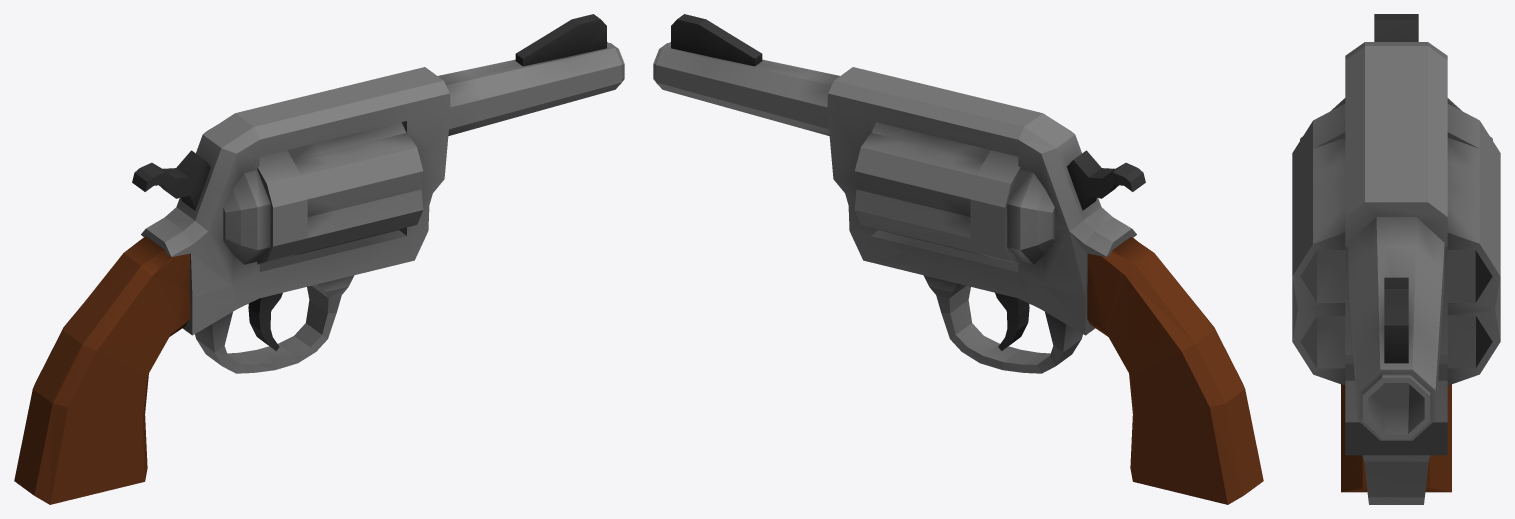
File: v-revolver-a-short.glb
3 renders of one model, left to right at view 1: azimuth 30°, elevation 25°; view 2: azimuth 150°, elevation 25°; view 3: azimuth 270°, elevation 25°, orthographic. The views are drawn at different scales.
Parts seen in each view (by area): view 1: body; view 2: body; view 3: body.
Boxes of the visible parts, left/top/right/bottom form: body: left=14, top=14, right=624, bottom=504; body: left=653, top=14, right=1263, bottom=504; body: left=1292, top=14, right=1500, bottom=504.
Size of the model in its own units: 0.2236 by 0.1226 by 0.0405.
